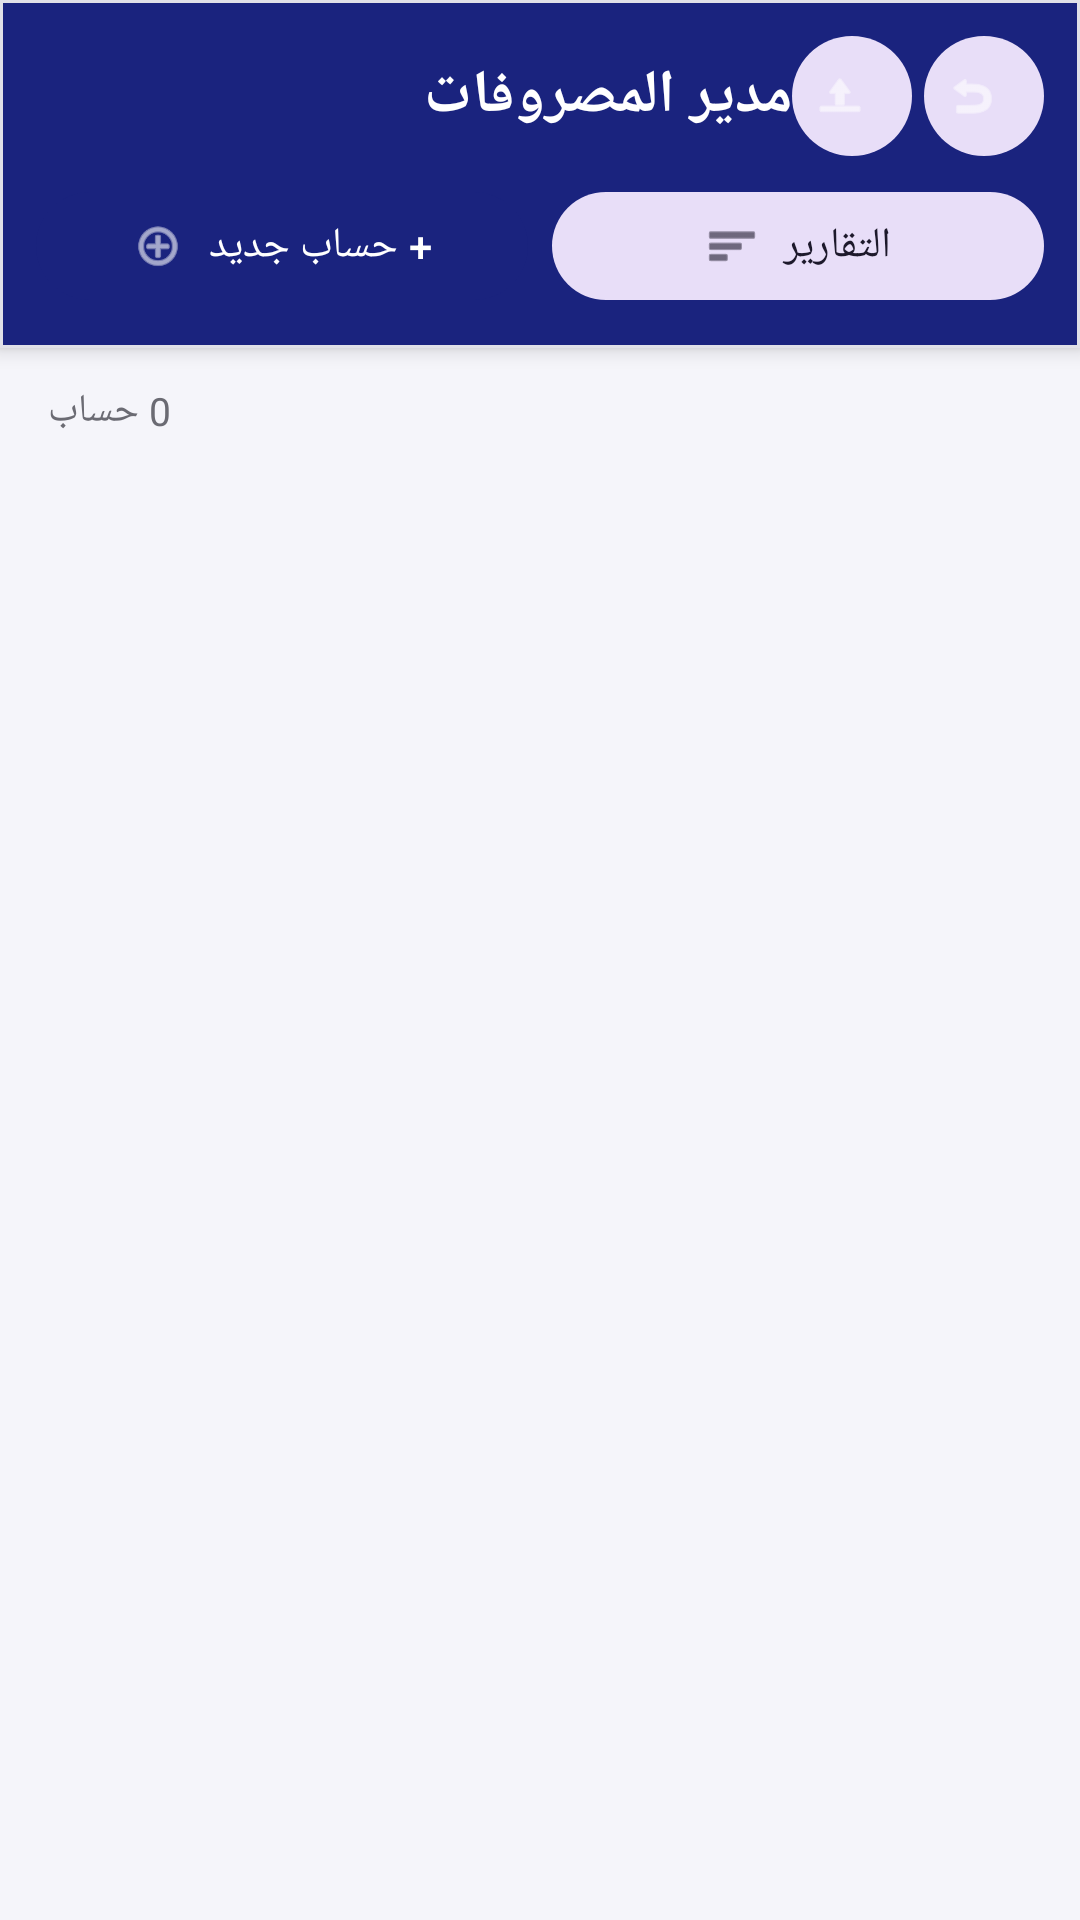

Screen size 1080 x 1920. Icon name, then its box in pixels as (x1, y1, x2, y2):
revert: (924, 36, 1044, 156)
upload: (792, 36, 912, 156)
